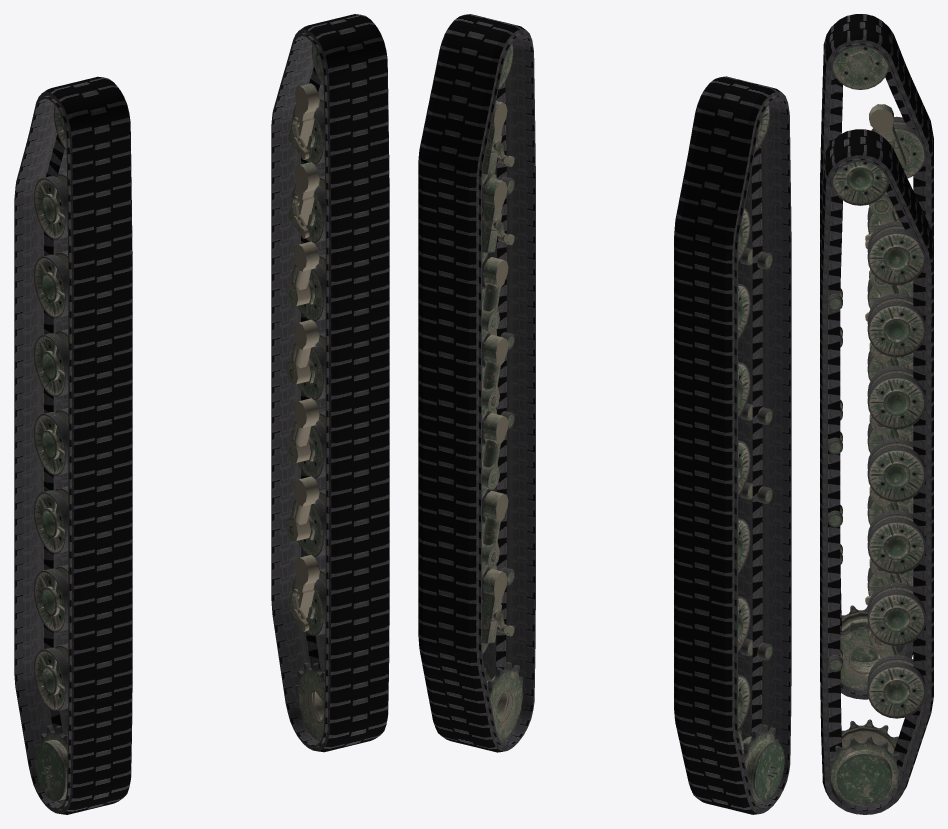
The model's file is Chassis.glb.
3 renders of one model, left to right at view 1: azimuth 30°, elevation 25°; view 2: azimuth 150°, elevation 25°; view 3: azimuth 270°, elevation 25°, orthographic. The views are drawn at different scales.
Visible parts, largest first — view 1: set_0_group_0, set_1_group_0, set_3_group_0, set_2_group_0; view 2: set_0_group_0, set_1_group_0, set_3_group_0, set_2_group_0; view 3: set_3_group_0, set_1_group_0, set_2_group_0, set_0_group_0.
Boxes of the visible parts, x1,y1,x2,y2 form: set_0_group_0: (14,76,132,814); set_1_group_0: (271,14,389,752); set_3_group_0: (286,43,325,741); set_2_group_0: (34,105,68,804); set_0_group_0: (674,76,791,814); set_1_group_0: (418,14,535,752); set_3_group_0: (482,43,522,741); set_2_group_0: (738,105,784,804); set_3_group_0: (828,161,925,805); set_1_group_0: (820,129,933,814); set_2_group_0: (832,46,924,690); set_0_group_0: (820,14,933,699).
Bounding box in the file's own units: 3.45 × 7.21 × 1.12.
Materials: 4 (4 with a texture image).
